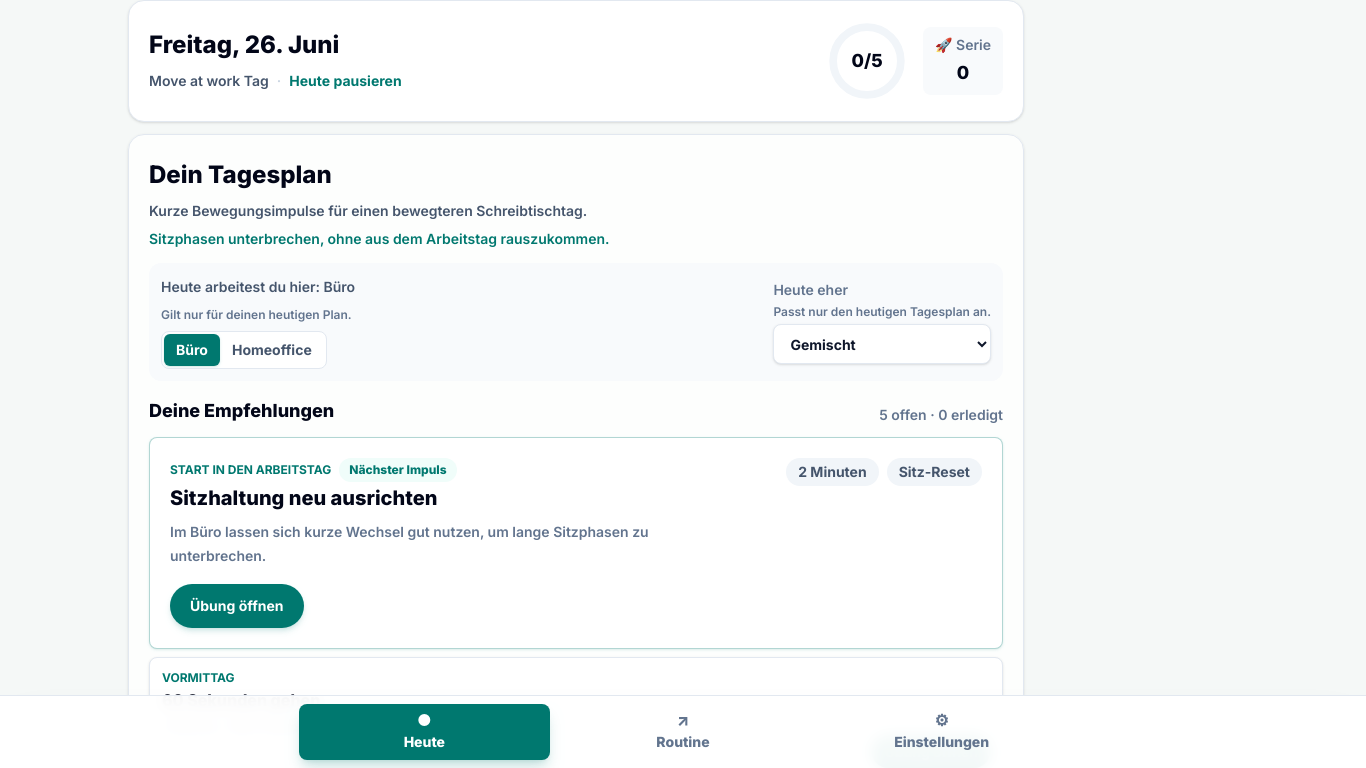
ResultScreen daily workday context helpers › keeps today and progress counts aligned after switching workplace
The image size is (1366, 768).
What coordinates should you click on to do the following:
click the button "Übung öffnen"
I would click on:
 (237, 606)
Its box is 170,584 -> 304,628.
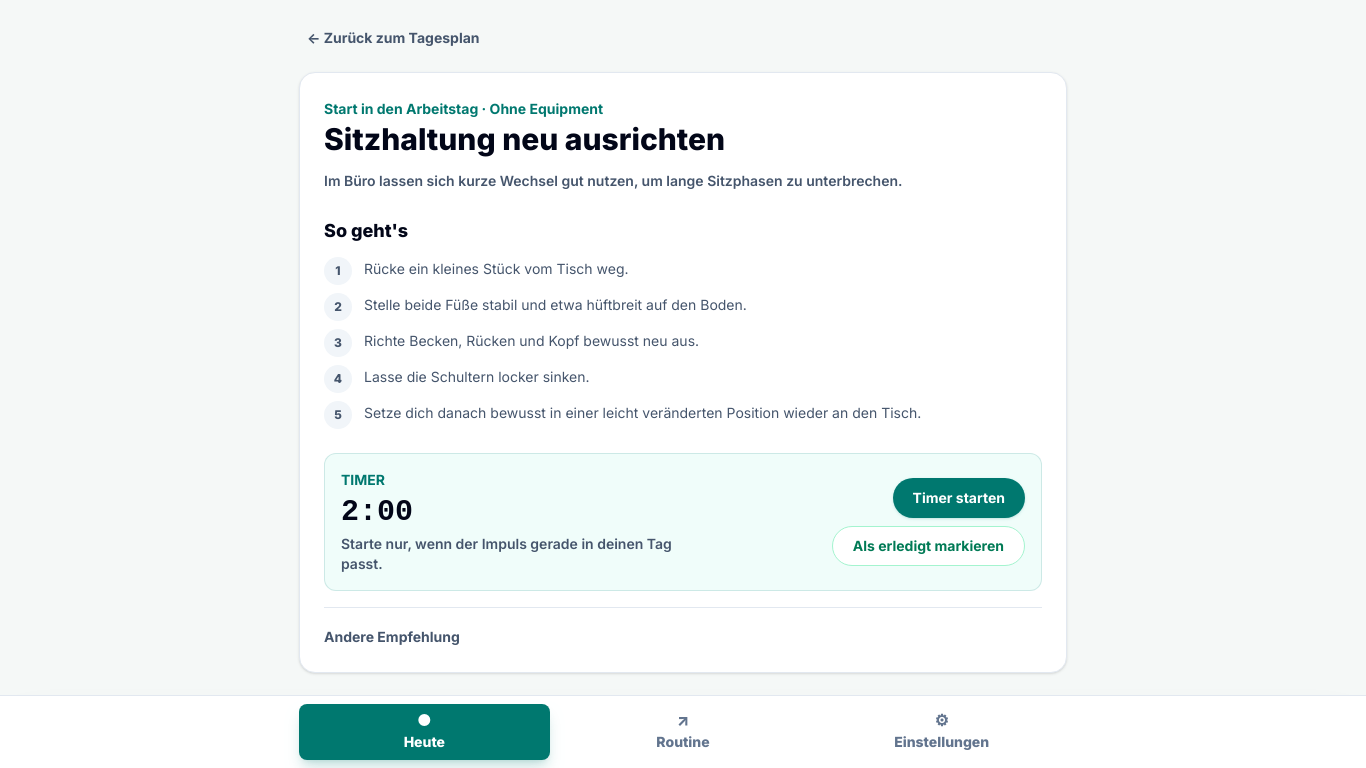
What coordinates should you click on to do the following:
click the button "Als erledigt markieren"
I would click on:
 (928, 546)
Its box is 832,526 -> 1025,566.
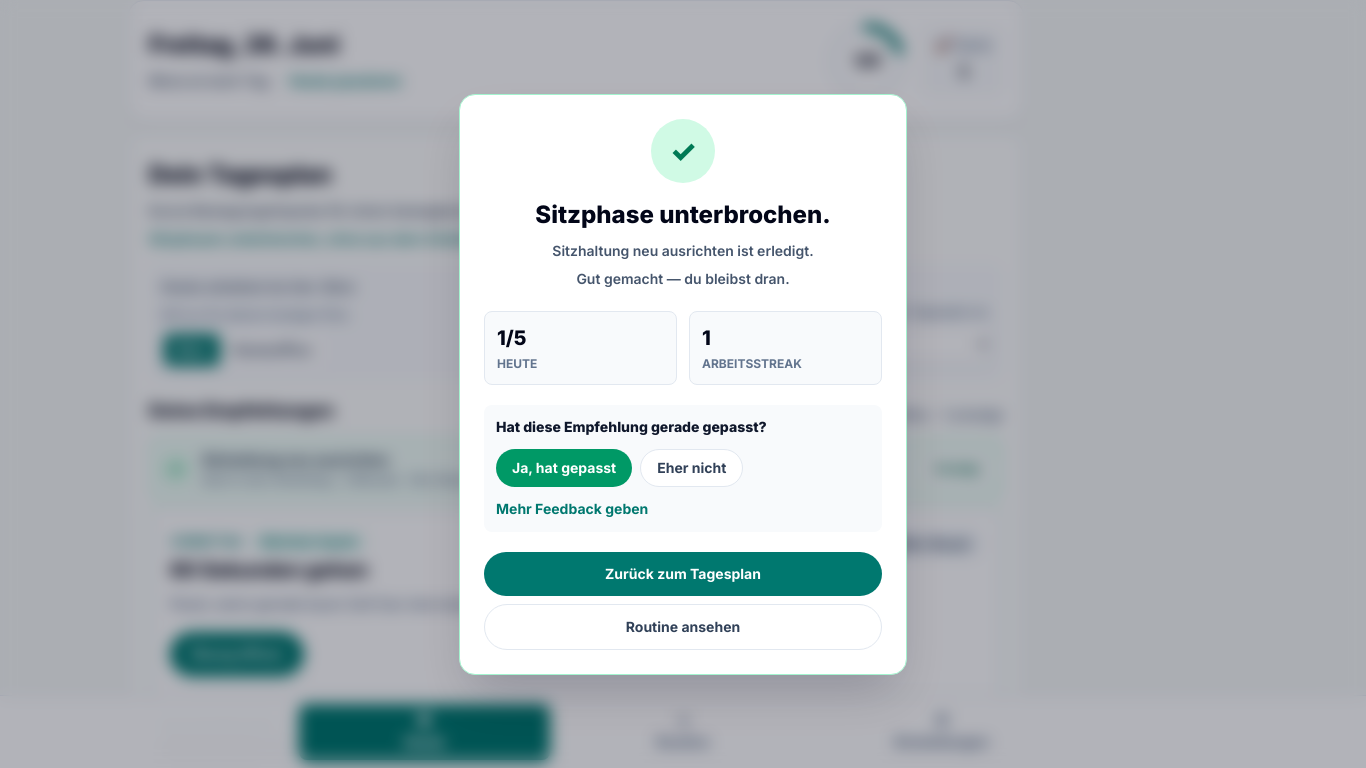
What coordinates should you click on to do the following:
click the button "Zurück zum Tagesplan"
I would click on:
 (683, 574)
Its box is 484,552 -> 882,596.
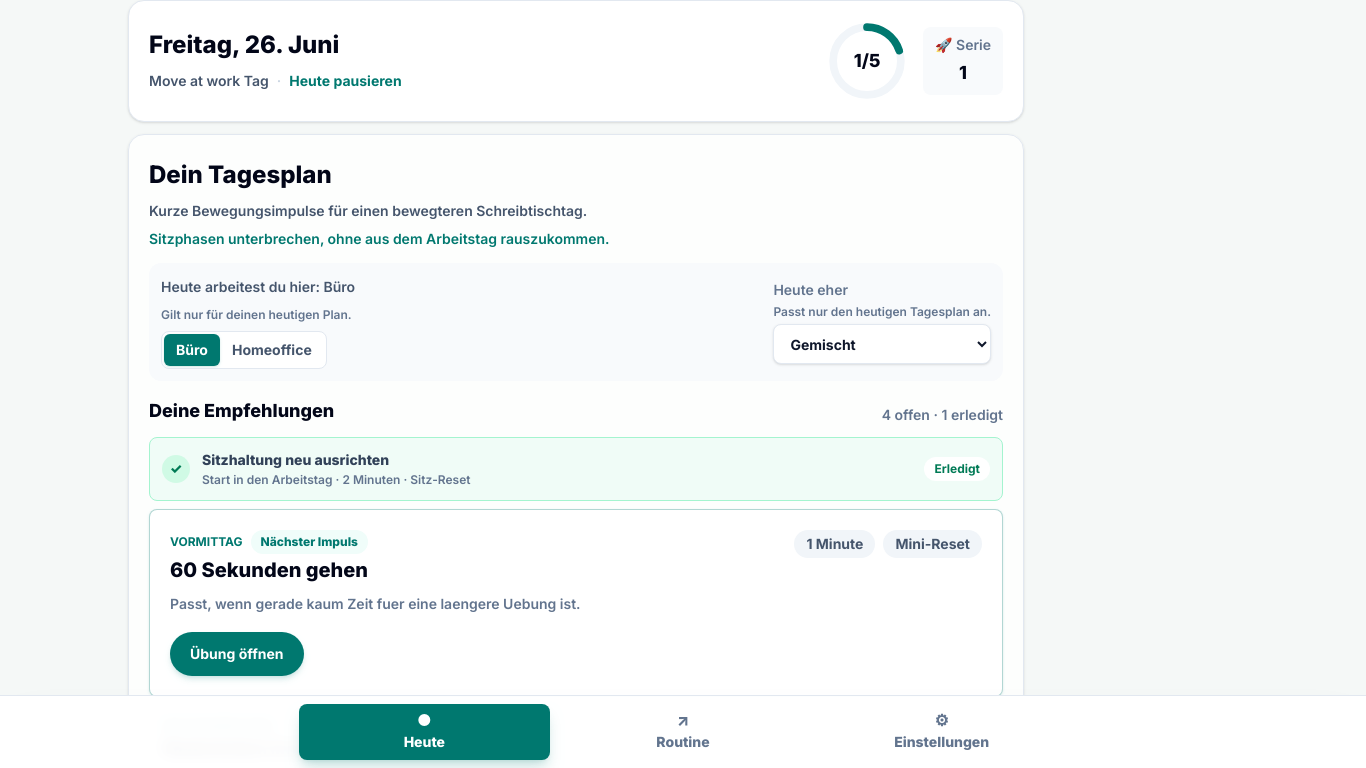
Expected: the text "1/5" is shown, 854,47 -> 880,75
What coordinates should you click on to do the following:
click the button "Homeoffice"
I would click on:
 (272, 350)
Its box is 220,334 -> 324,366.
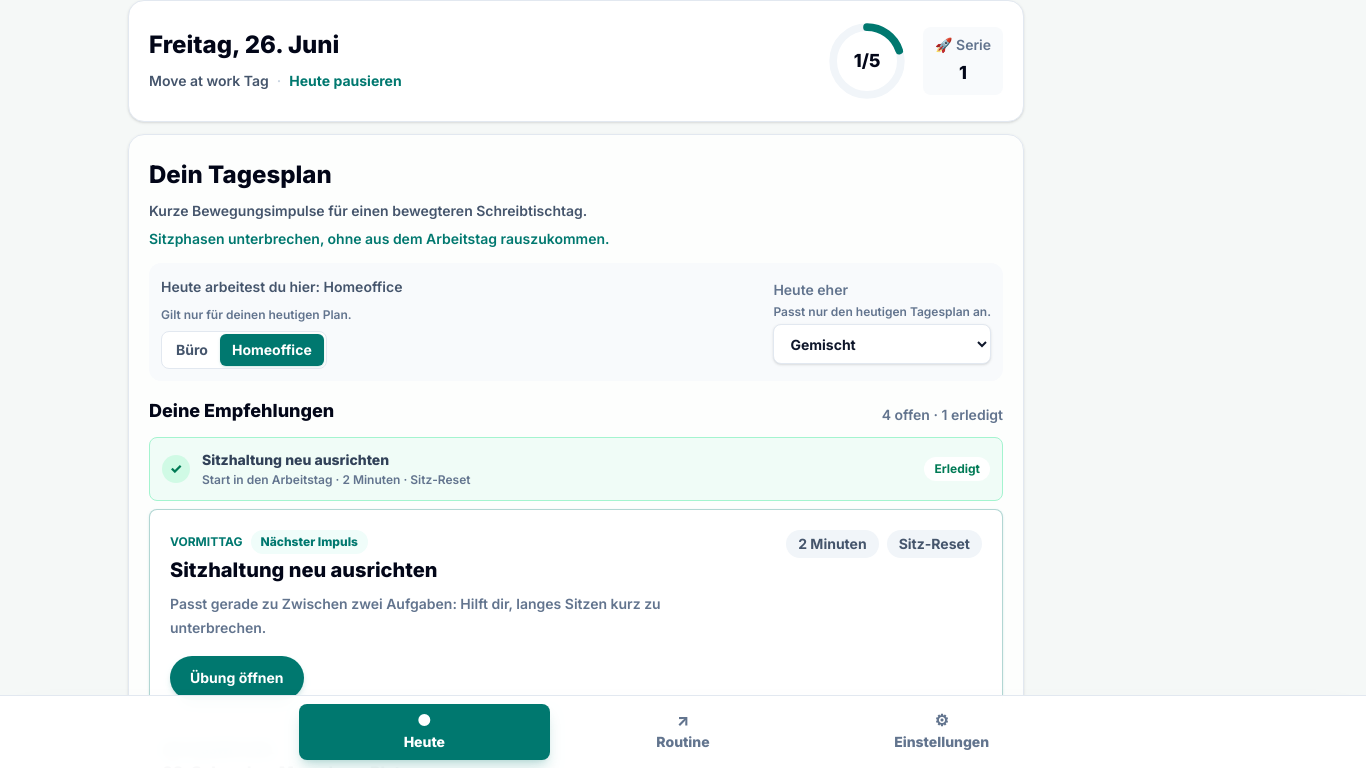
What coordinates should you click on to do the following:
click the button "↗ Routine"
I would click on:
 (683, 732)
Its box is 558,704 -> 808,760.
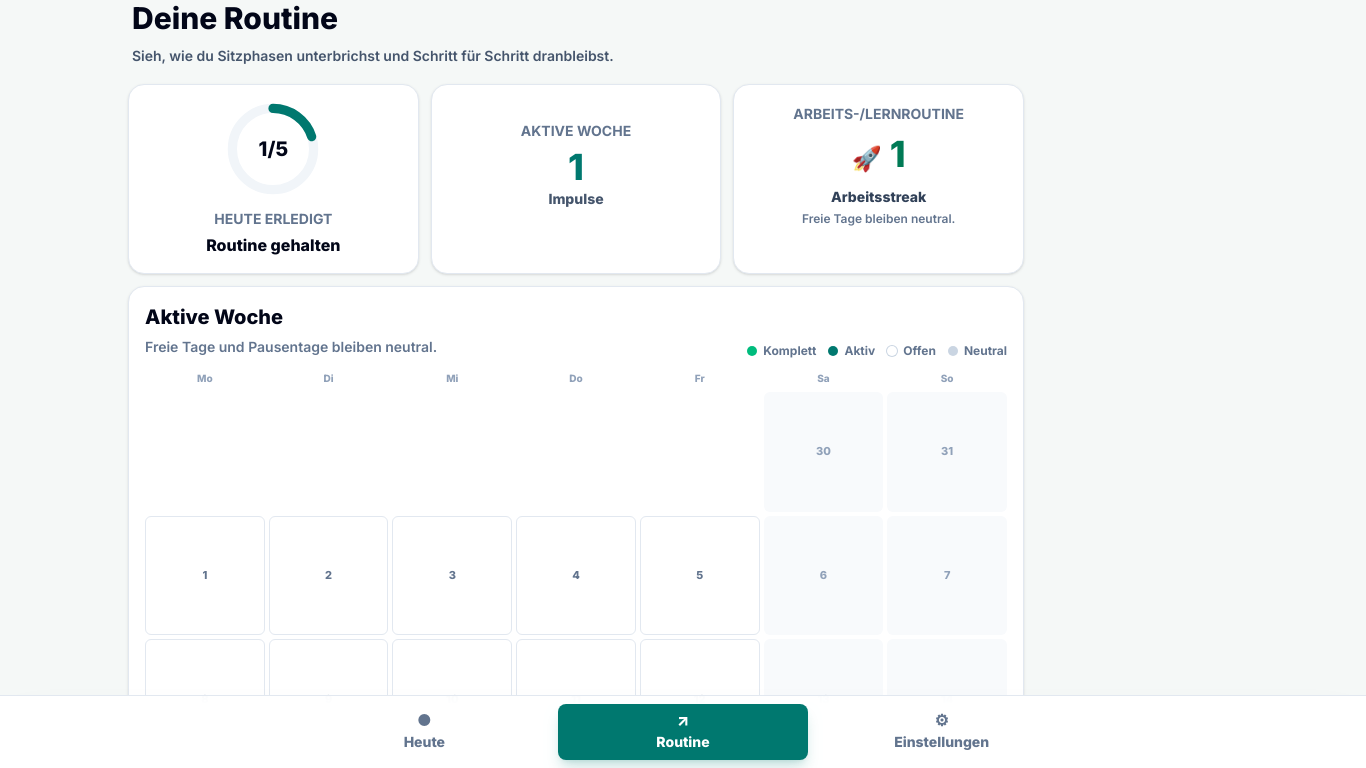
Expected: the text "1/5" is shown, 259,135 -> 288,163
Expected: the text "Routine gehalten" is shown, 206,233 -> 340,257
